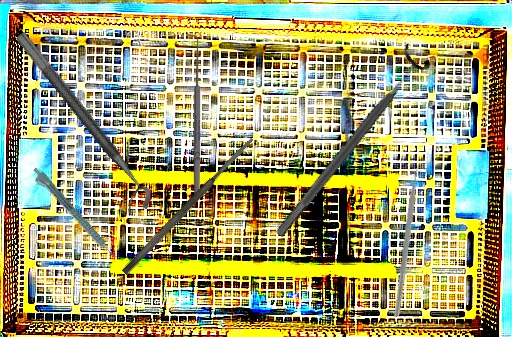Chopper: (341, 159, 483, 318)
Fixation Ring: (264, 41, 435, 246), (0, 30, 159, 220)
Handpiece: (27, 165, 119, 265)
Hook Surgical: (187, 34, 202, 200)
Spatula Surgical: (120, 135, 257, 277)
